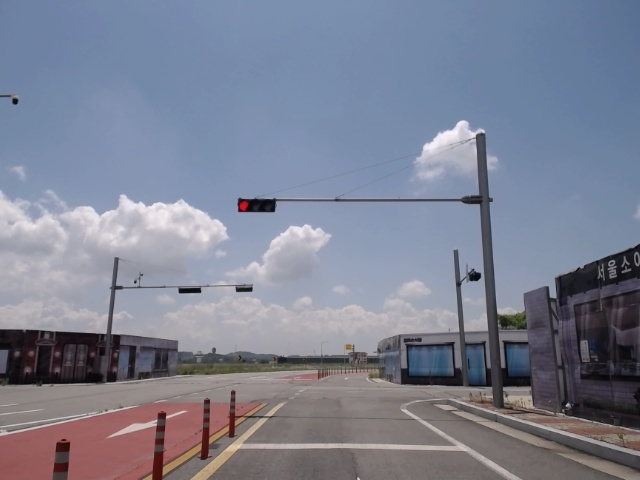red_3: (235, 198, 279, 211)
